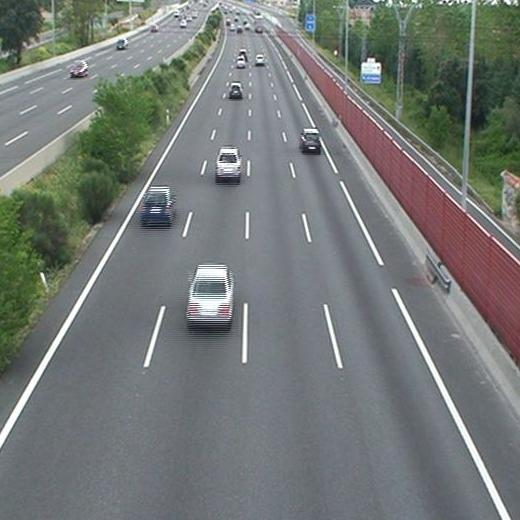car: (187, 265, 233, 324), (140, 187, 174, 221), (215, 148, 241, 177), (300, 129, 321, 150), (229, 82, 242, 96), (236, 56, 245, 68), (255, 55, 265, 64)
